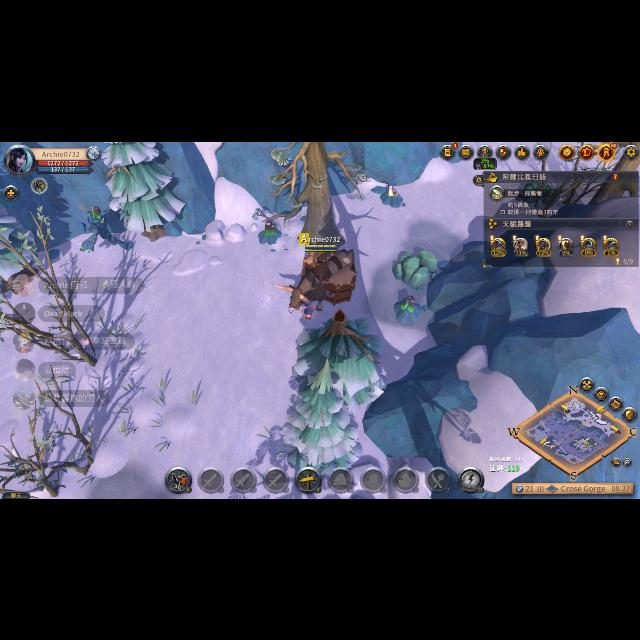mine_ii: (378, 180, 408, 206)
mine_iii: (256, 216, 284, 244), (391, 296, 422, 320)
